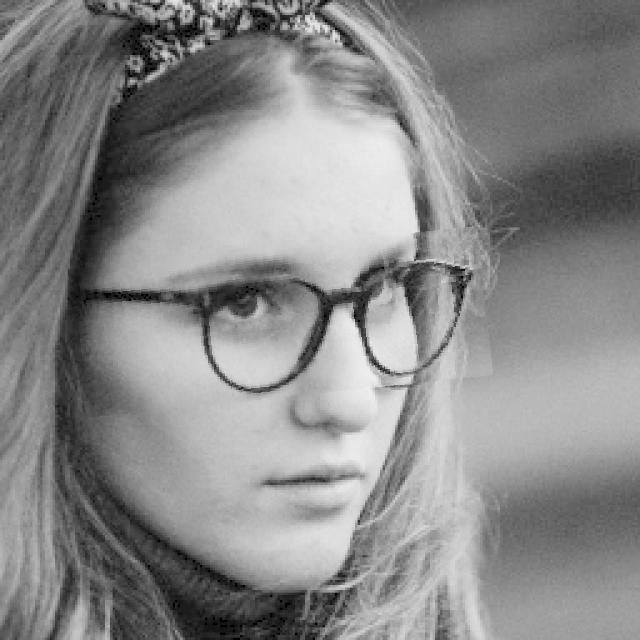glasses: (72, 237, 490, 408)
